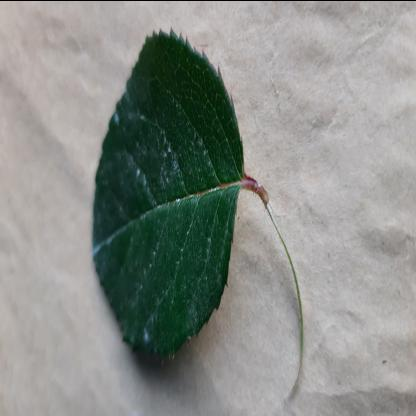normal: (91, 20, 252, 360)
